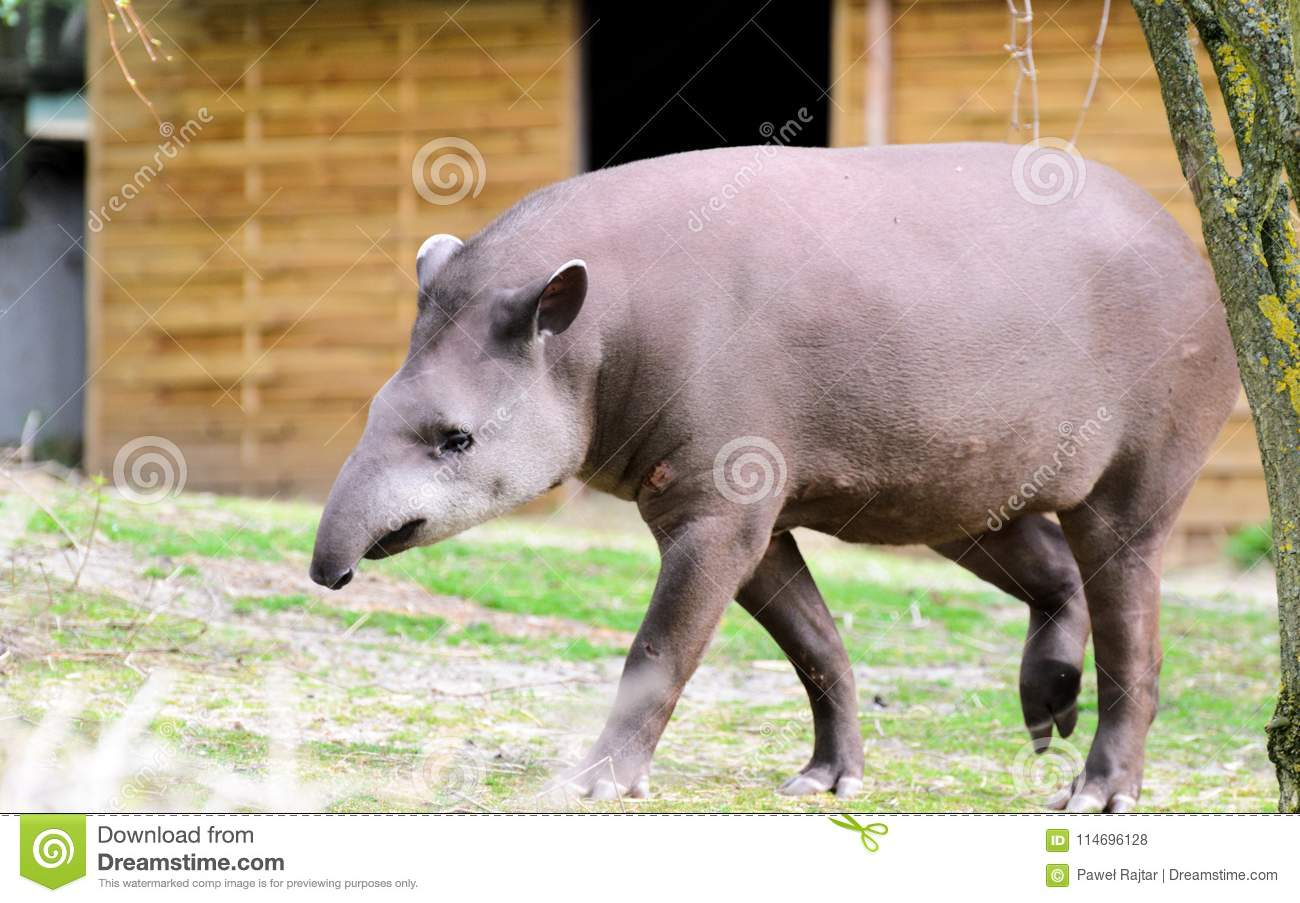Anta: (354, 131, 1251, 791)
